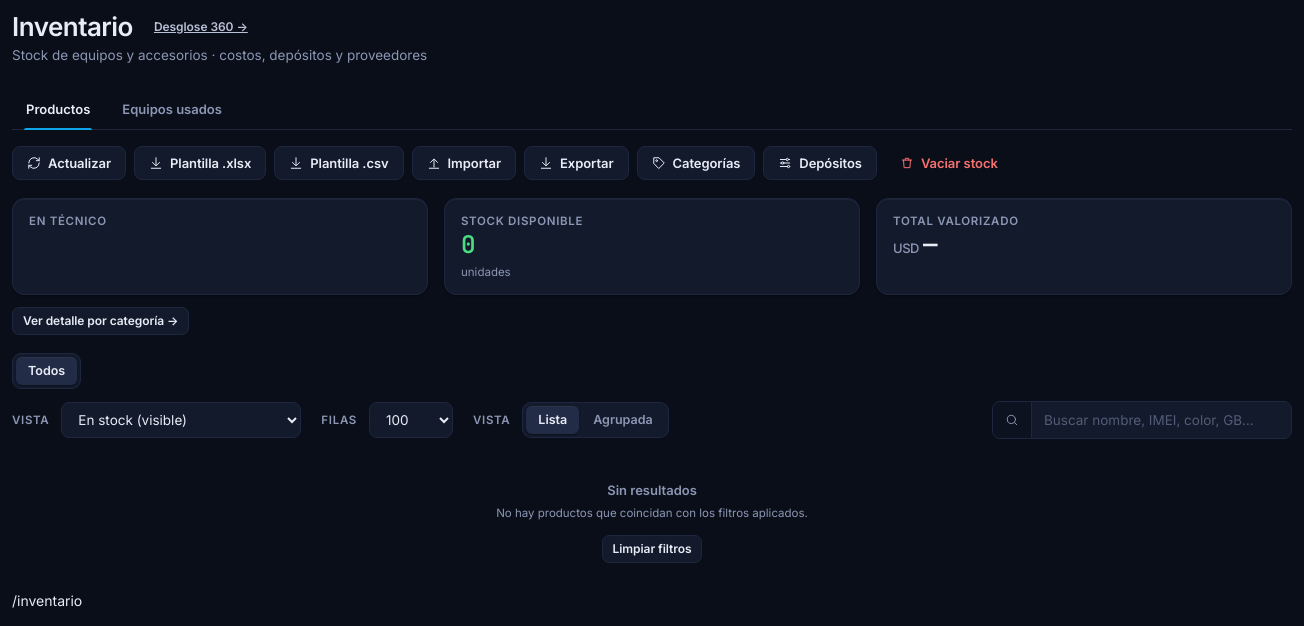
Test: Pantalla Inventario › F-08 — filtros persisten en URL › tipear en buscador agrega ?q=...
This screenshot has width=1304, height=626.
In the field with placeholder "Buscar nombre, IMEI, color, GB…": (1162, 420) [1032,402,1291,438], type "samsung"
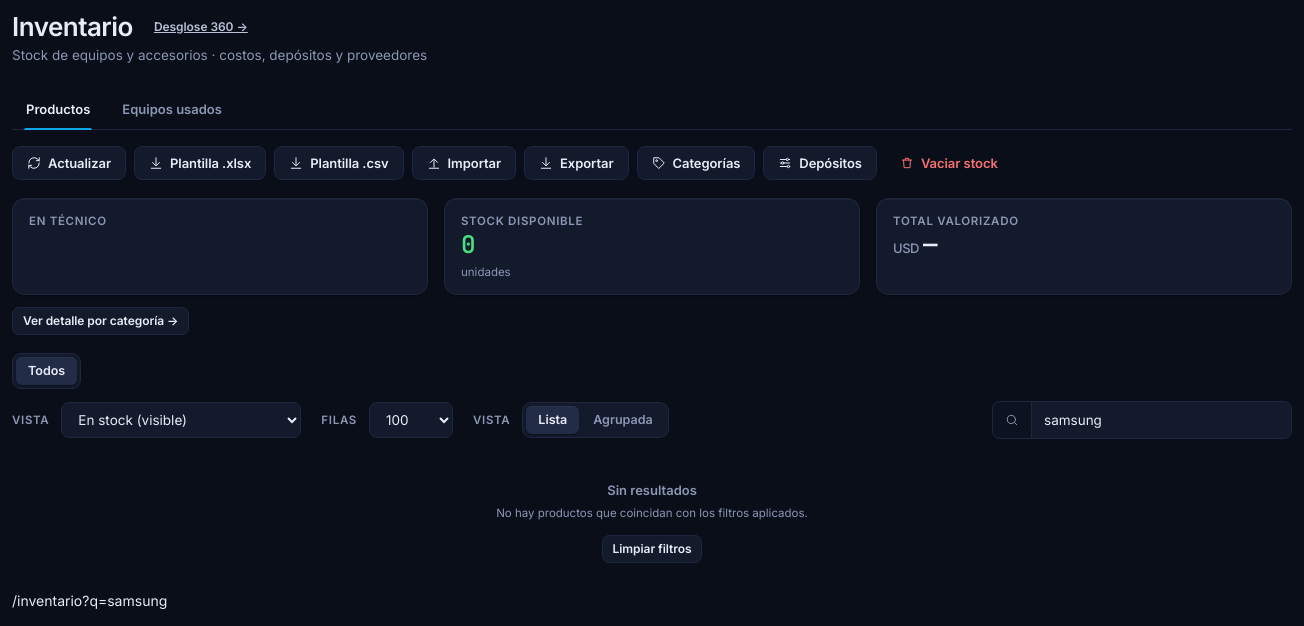
Check: the text with test id "location" reads "/inventario?q=samsung", box [82,592,167,609]
